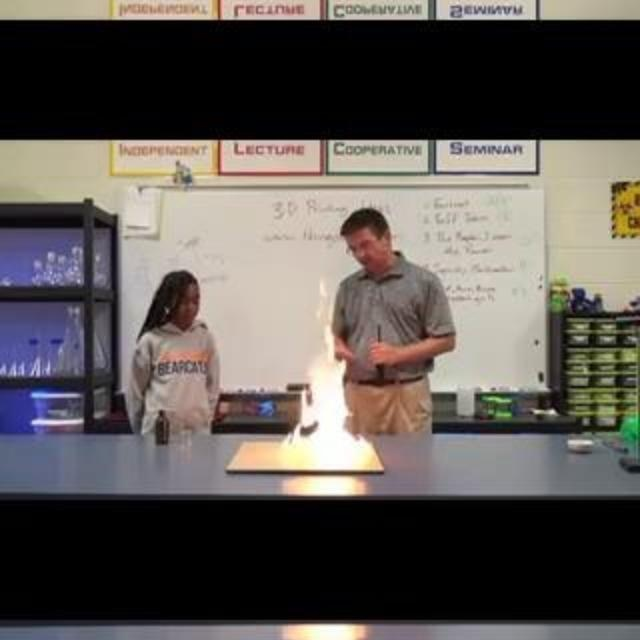fire: (280, 311, 364, 482)
